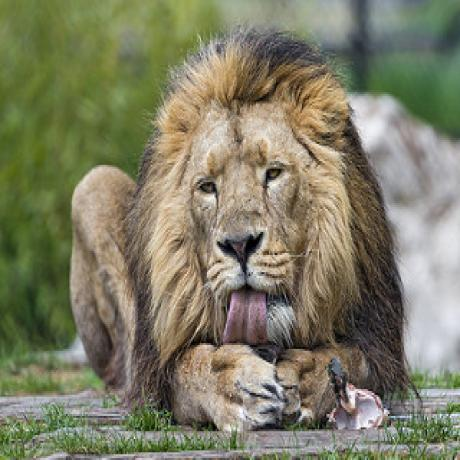Lion: (58, 25, 410, 446)
